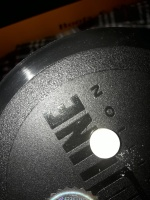Arveles: (88, 127, 122, 161)
